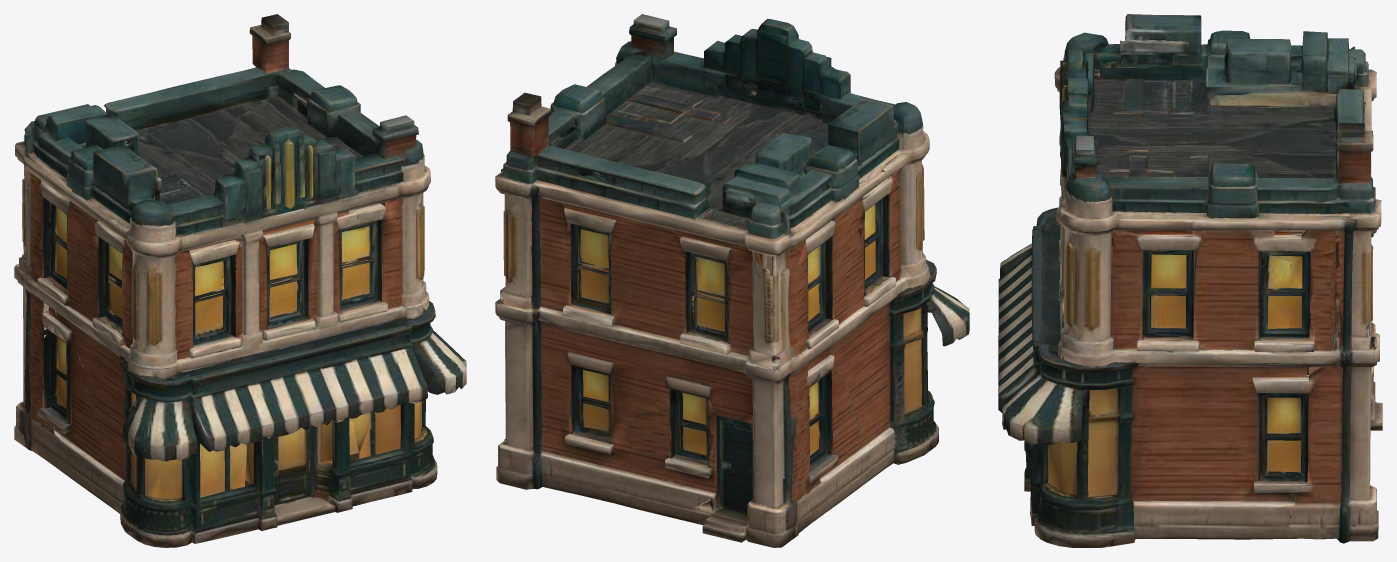
File: candidate.glb
The picture shows the model from 3 angles, left to right: view 1: azimuth 30°, elevation 25°; view 2: azimuth 150°, elevation 25°; view 3: azimuth 270°, elevation 25°; orthographic projection. The views are drawn at different scales.
Visible parts, largest first — view 1: expansion__shop_2__native_mobile; view 2: expansion__shop_2__native_mobile; view 3: expansion__shop_2__native_mobile.
Part boxes in pixels (x1=…): expansion__shop_2__native_mobile: x1=14, y1=14, x2=466, y2=547; expansion__shop_2__native_mobile: x1=495, y1=14, x2=969, y2=547; expansion__shop_2__native_mobile: x1=998, y1=14, x2=1382, y2=547.
Size of the model in its own units: 0.9279 by 1 by 0.8434.
Materials: 1 (1 with a texture image).
